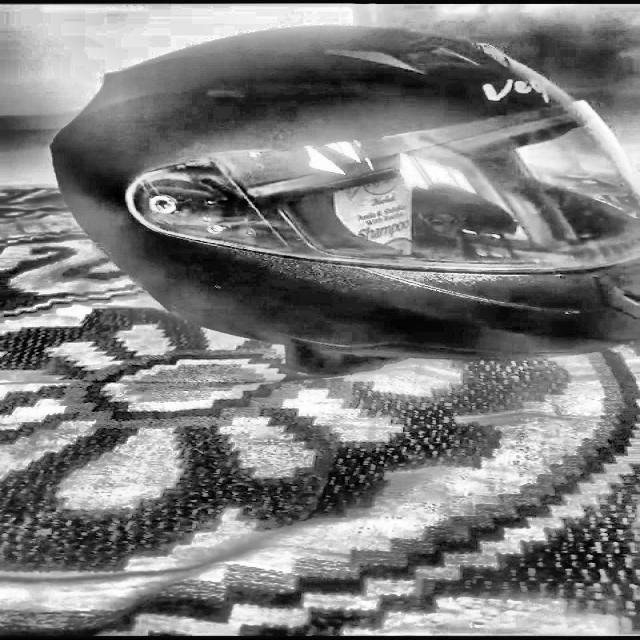Helmet: (43, 25, 640, 375)
